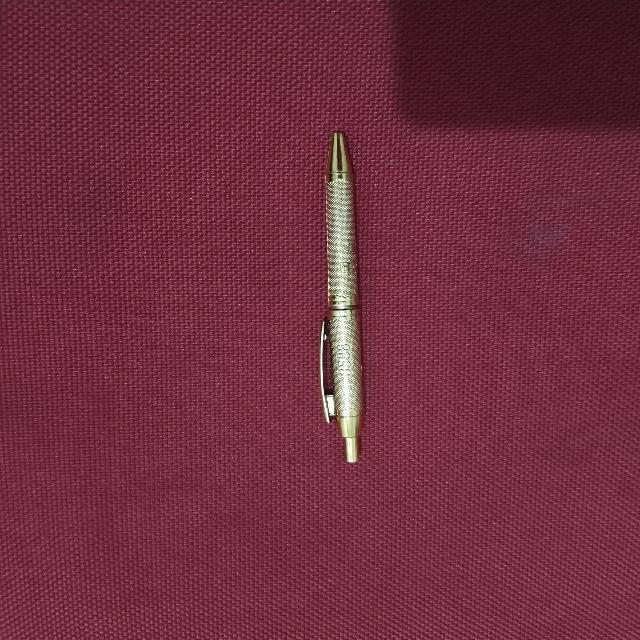signature pen: (320, 132, 363, 461)
